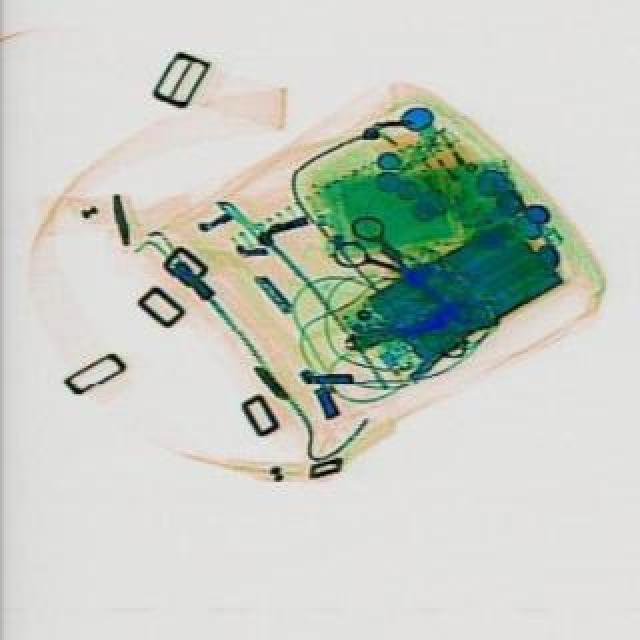pliers: (322, 206, 450, 316)
